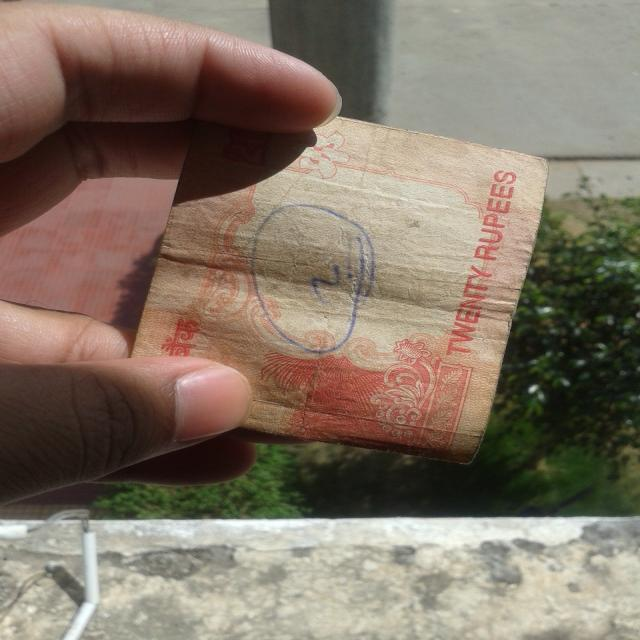20rs: (140, 84, 529, 459)
